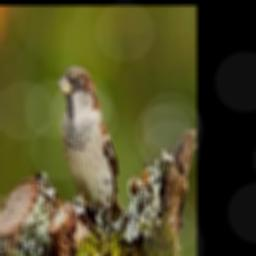Sparrow: (56, 66, 125, 222)
